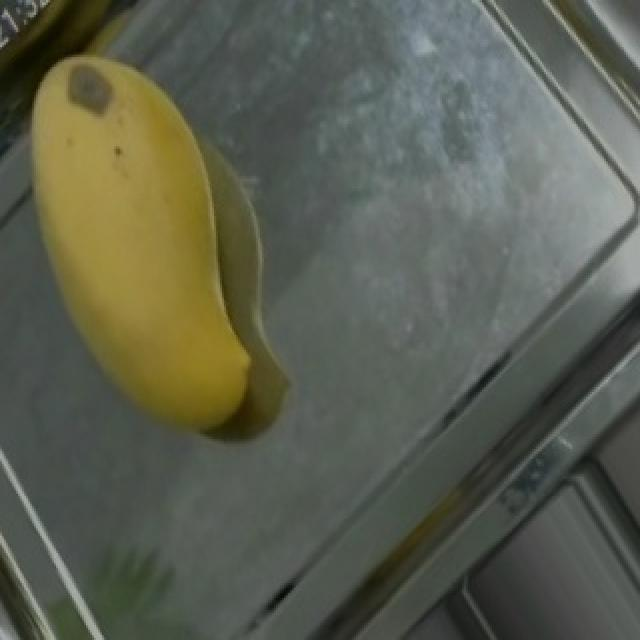fruit: (2, 15, 340, 409)
